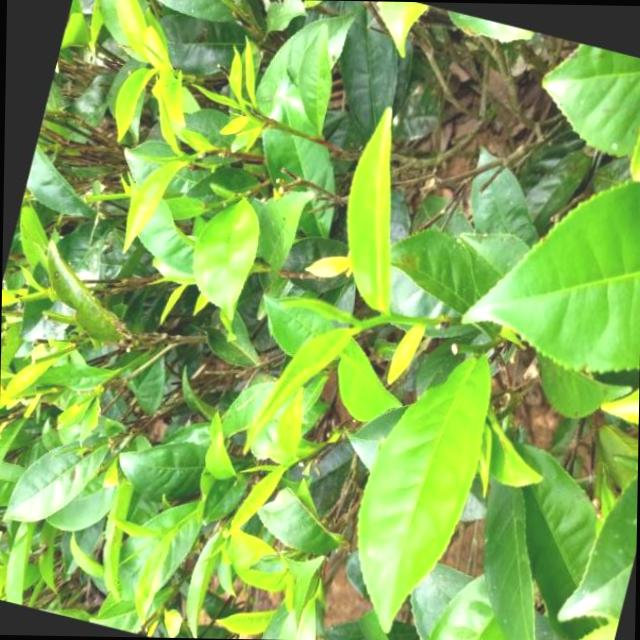Stem: (381, 313, 396, 324)
